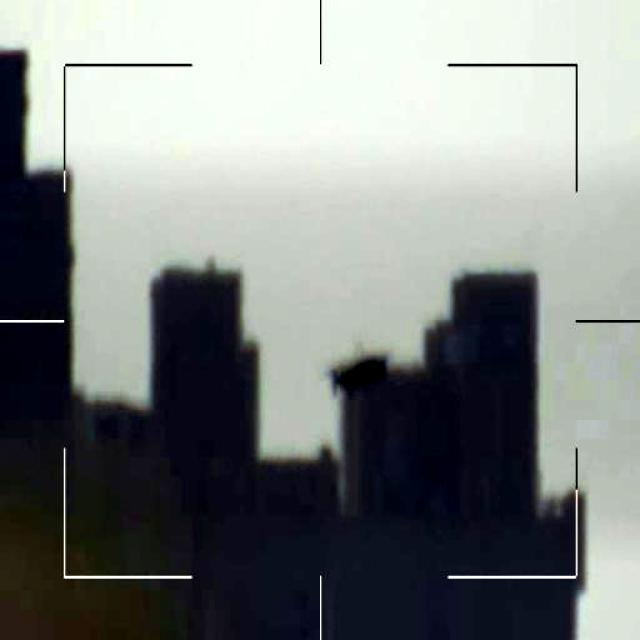bird: (329, 354, 388, 402)
